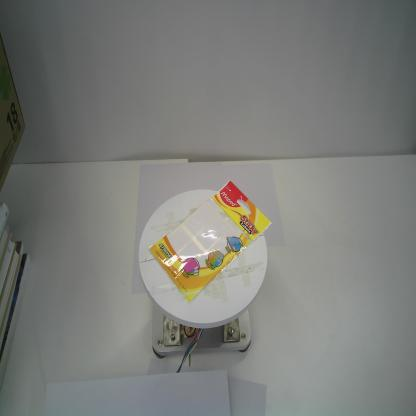Stationery: (148, 179, 272, 304)
